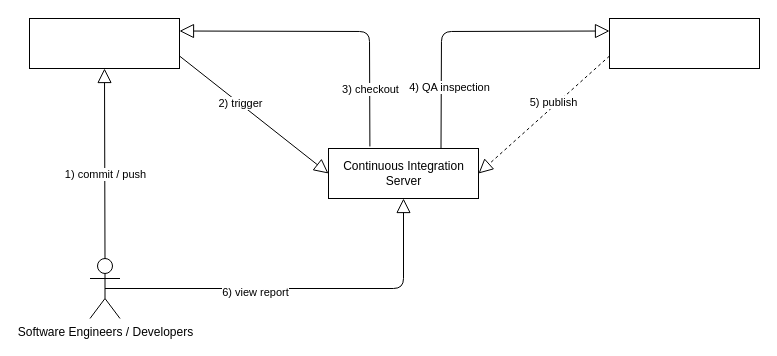
Image size: 777x356. Some labels were removed from this diagram. The centre of each missing label's shape, as x and y in pixels:
"Continuous Inspection Server" goes at point 684,43.
"Source Code Management Repository" goes at point 104,43.
